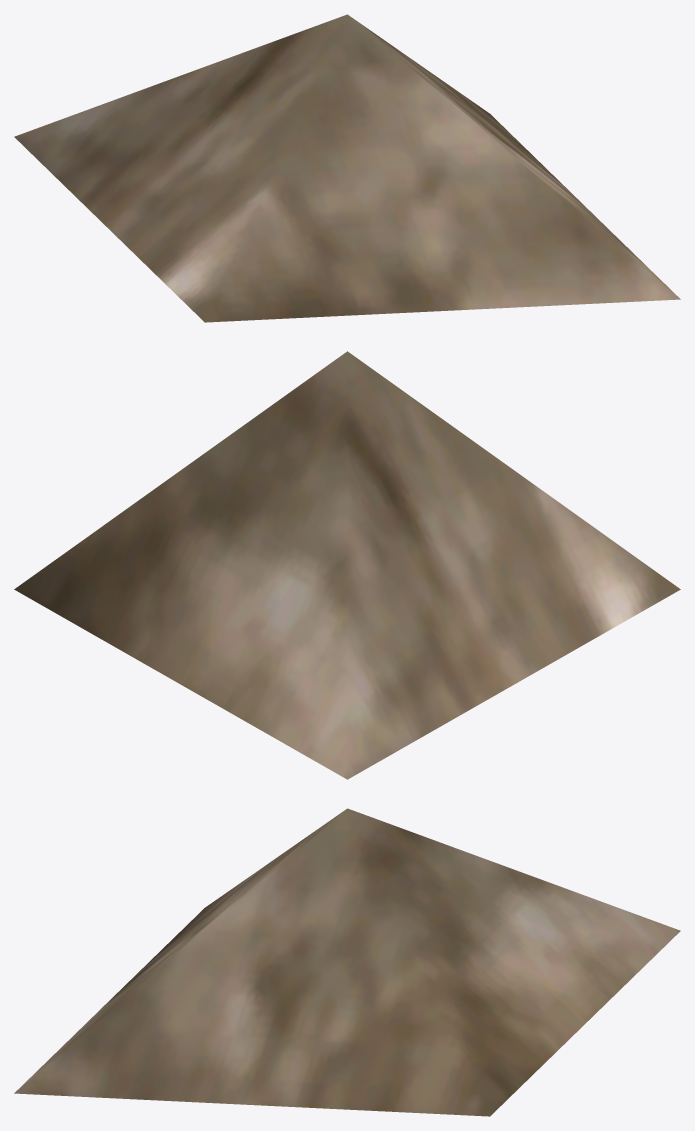
Rendered from OVERHILL_A_01_PLANE20.fbx.
3 renders of one model, top to bottom at view 1: azimuth 30°, elevation 25°; view 2: azimuth 150°, elevation 25°; view 3: azimuth 270°, elevation 25°, orthographic. The views are drawn at different scales.
Visible parts, largest first — view 1: OVERHILL_A_01_PLANE20; view 2: OVERHILL_A_01_PLANE20; view 3: OVERHILL_A_01_PLANE20.
Part boxes in pixels (x1,y1,x2,y2): OVERHILL_A_01_PLANE20: [14, 14, 680, 322]; OVERHILL_A_01_PLANE20: [14, 351, 680, 779]; OVERHILL_A_01_PLANE20: [14, 808, 680, 1116].
Size of the model in its own units: 1021 by 465 by 1379.
1 material, 1 textured.
